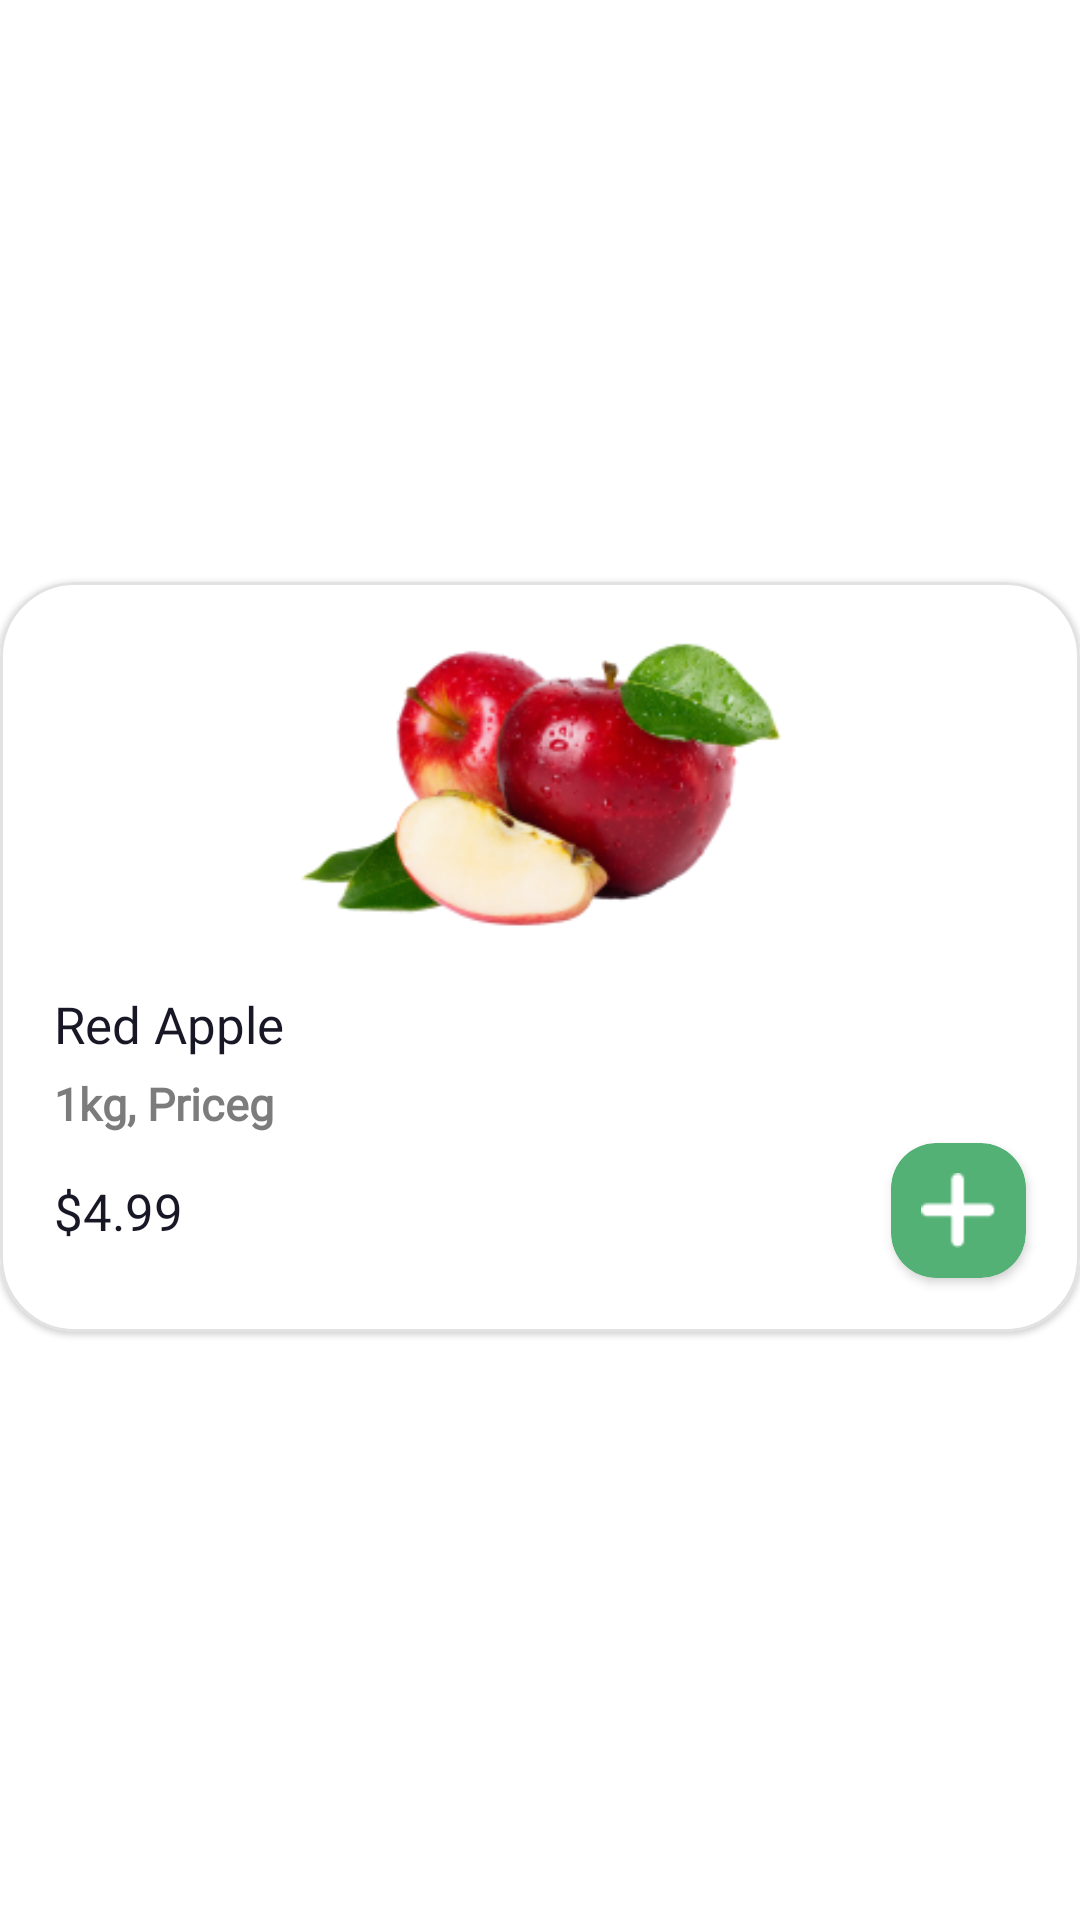

Screen size 1080x1920. Icon name, then its box in pixels as [x1=x1, y1=y1, x2=x2, y2=y2]:
plus: [x1=921, y1=1173, x2=995, y2=1248]
